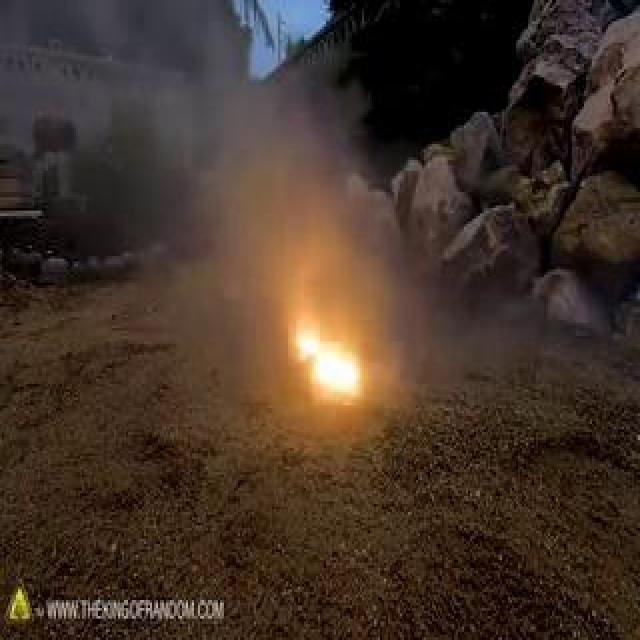Fire: (86, 88, 328, 358)
